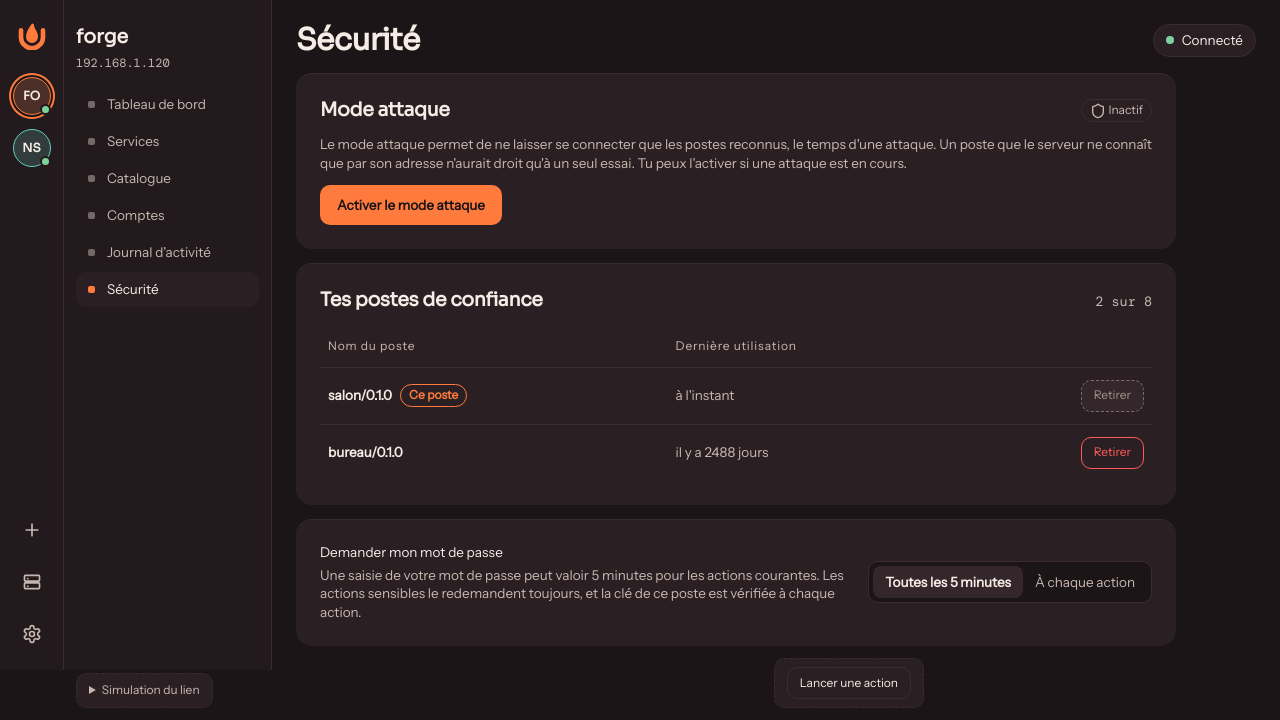
Test: Sécurité : retirer un poste › removes the device with the right password, announces it, re-reads the list and keeps the password nowhere
Step 1. Click the button with aria-label "Retirer bureau/0.1.0" → (1112, 453), box [1081,437,1144,469]
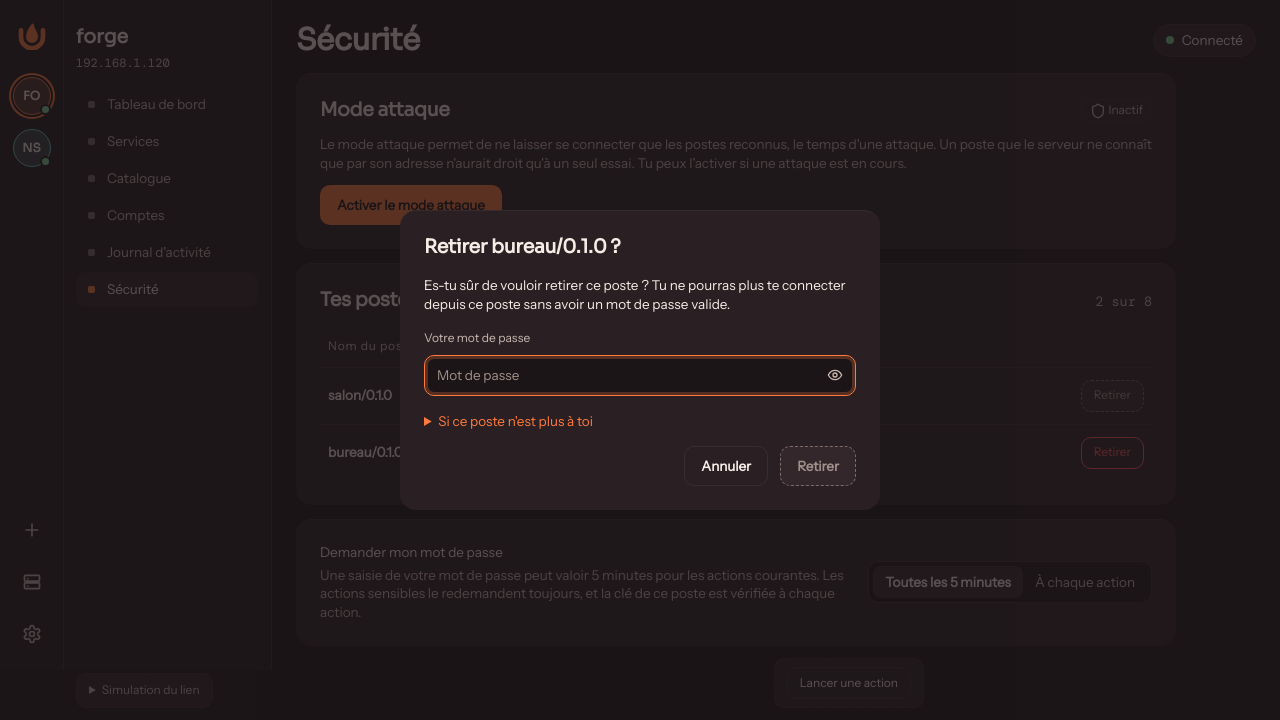
Step 2. Type "Correct-Horse-9" into the password field labelled "Votre mot de passe" → (620, 375), box [425,356,815,395]
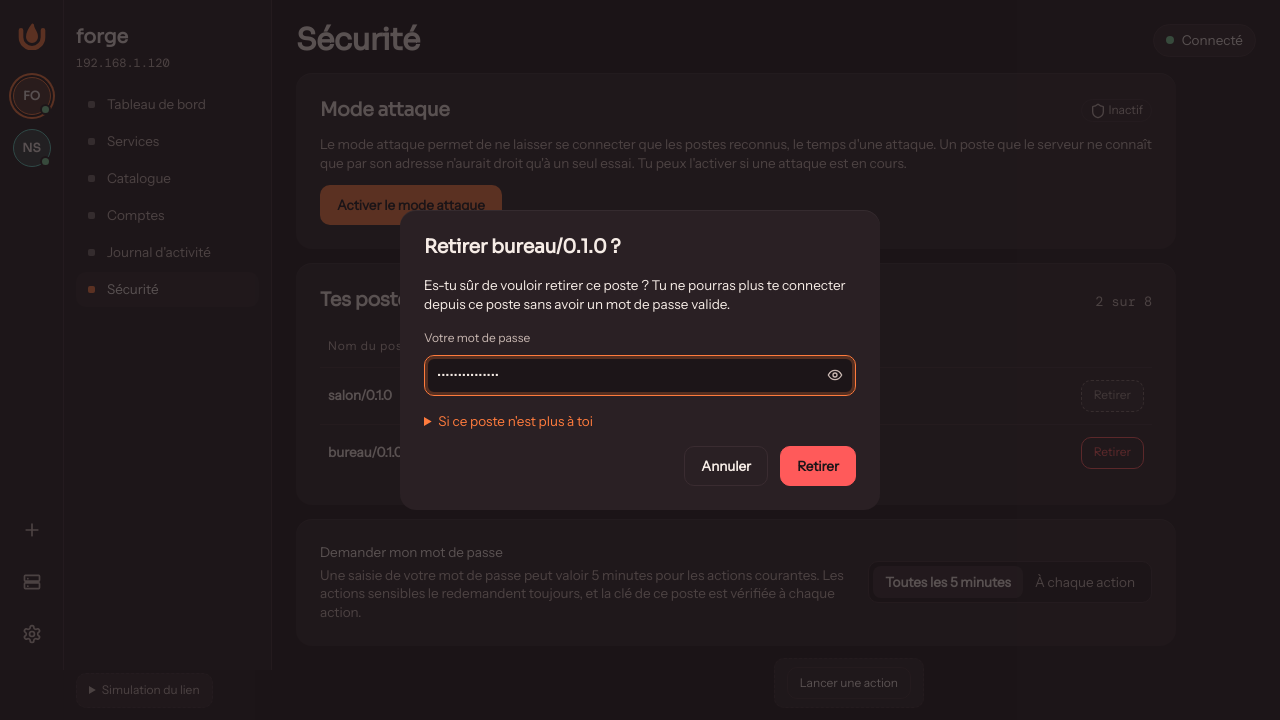
Step 3. Click the button "Retirer" → (818, 466), box [780,446,856,486]
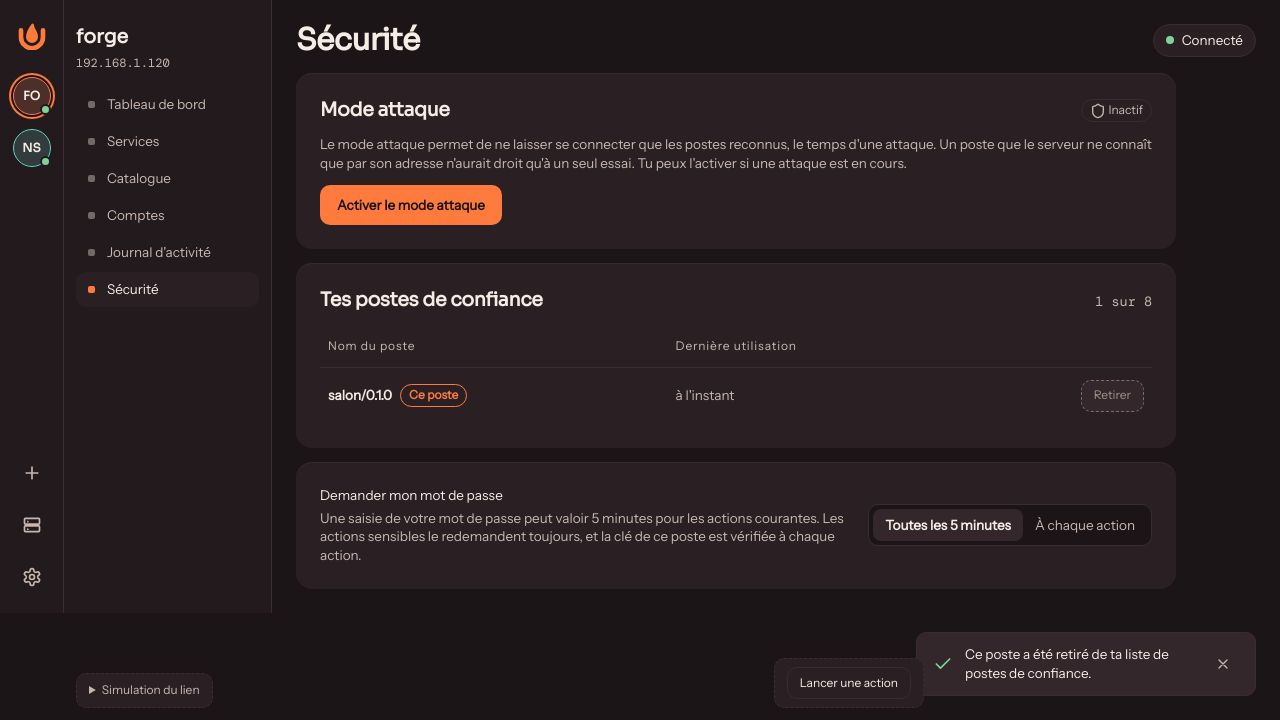
Now the dialog is gone
Now the element that starts with "Tes postes de confiance" shows "1 sur 8", box [1095,293,1152,310]
